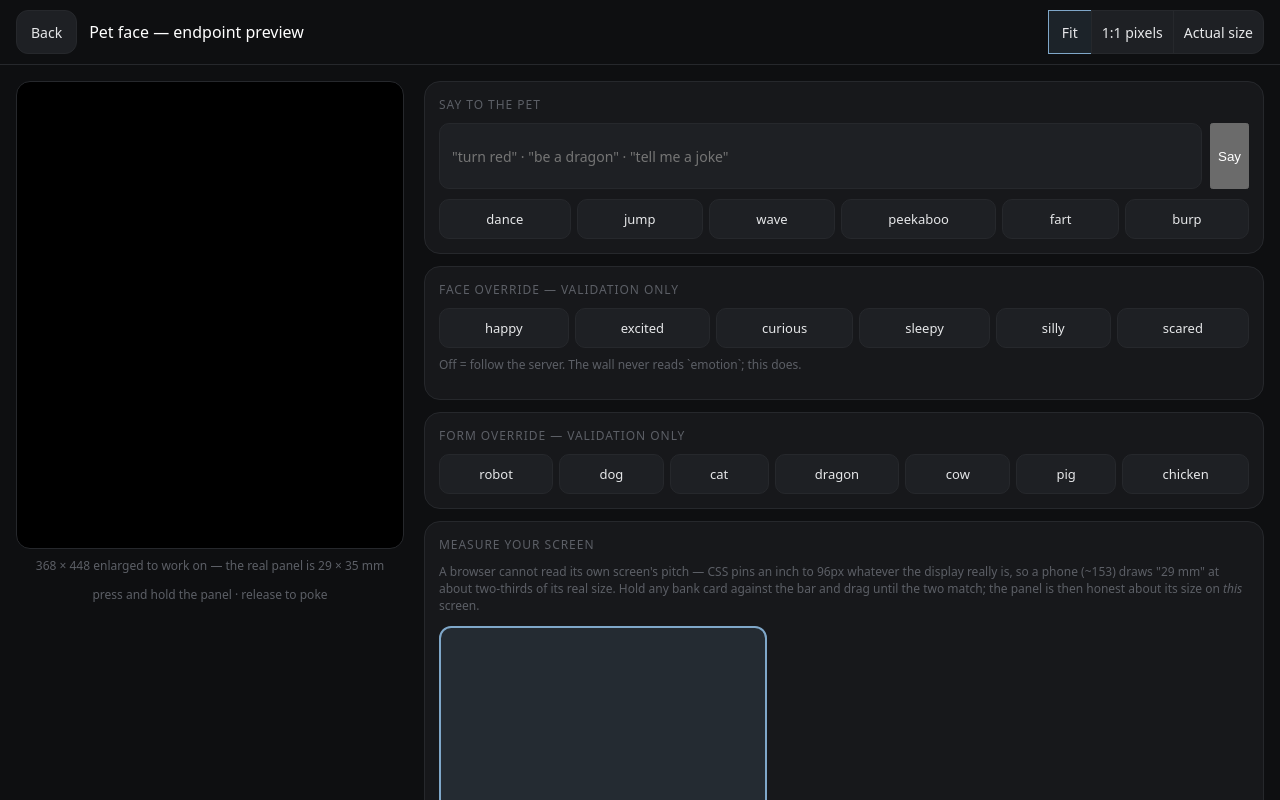
Test case: PetFaceScreen › asks to be calibrated rather than guessing at actual size
What coordinates should you click on to do the following:
click the button "Actual size"
I would click on:
 (1218, 32)
Its box is x1=1173 y1=10 x2=1264 y2=54.
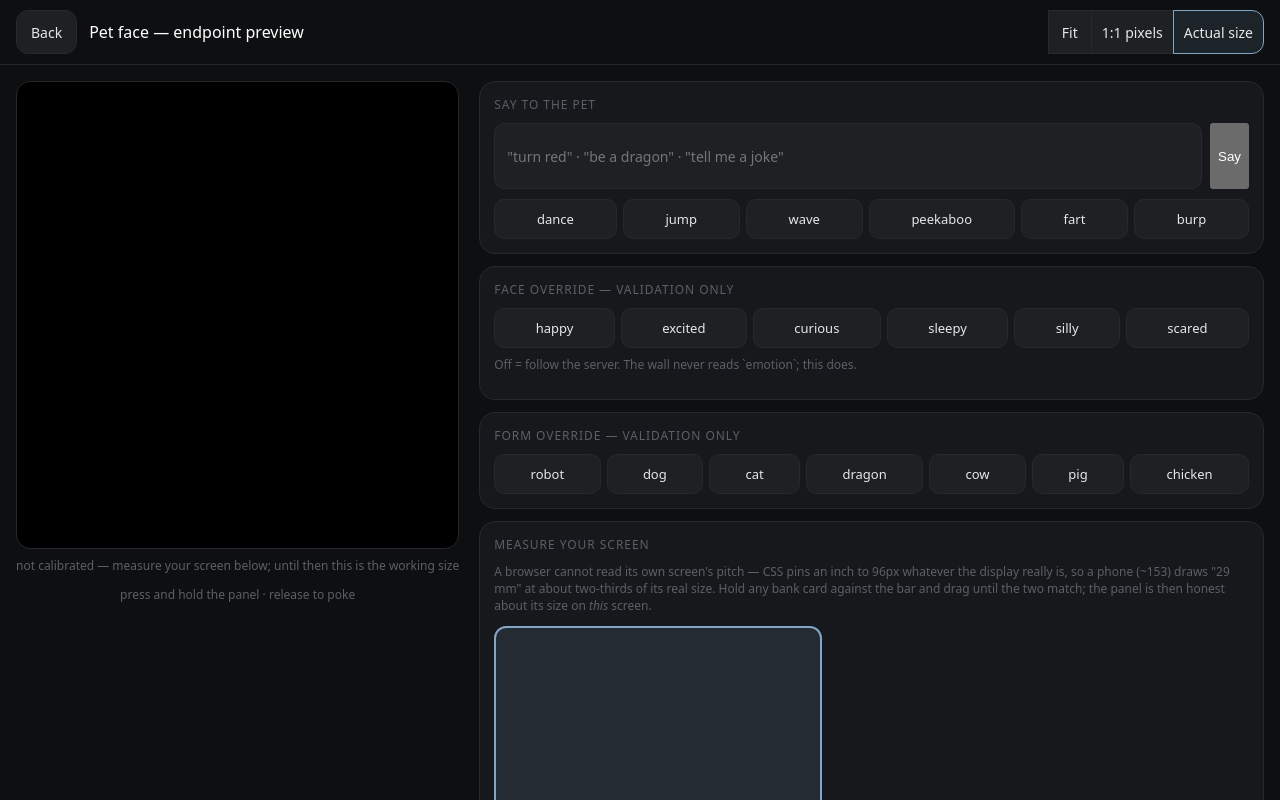
Check: the text "not calibrated" is shown, box x1=16 y1=557 x2=459 y2=574
